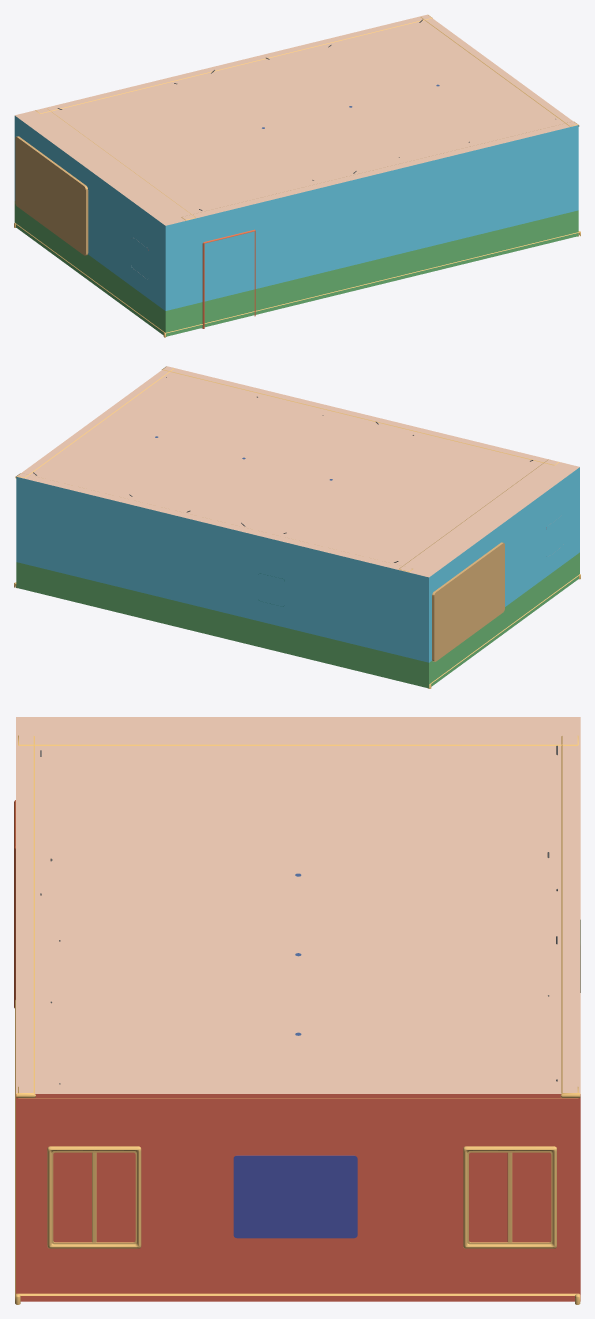
Rendered from classroom.fbx.
The picture shows the model from 3 angles, top to bottom: view 1: azimuth 30°, elevation 25°; view 2: azimuth 150°, elevation 25°; view 3: azimuth 270°, elevation 25°; orthographic projection. The views are drawn at different scales.
Parts seen in each view (by area): view 1: model_0, model_6; view 2: model_0, model_6; view 3: model_0.
Boxes of the visible parts, left/top/right/bottom form: model_0: left=14, top=14, right=580, bottom=337; model_6: left=15, top=136, right=88, bottom=255; model_0: left=14, top=366, right=580, bottom=688; model_6: left=432, top=542, right=504, bottom=661; model_0: left=14, top=717, right=580, bottom=1304.
Bounding box in the file's own units: 23859 × 6271 × 14995.
